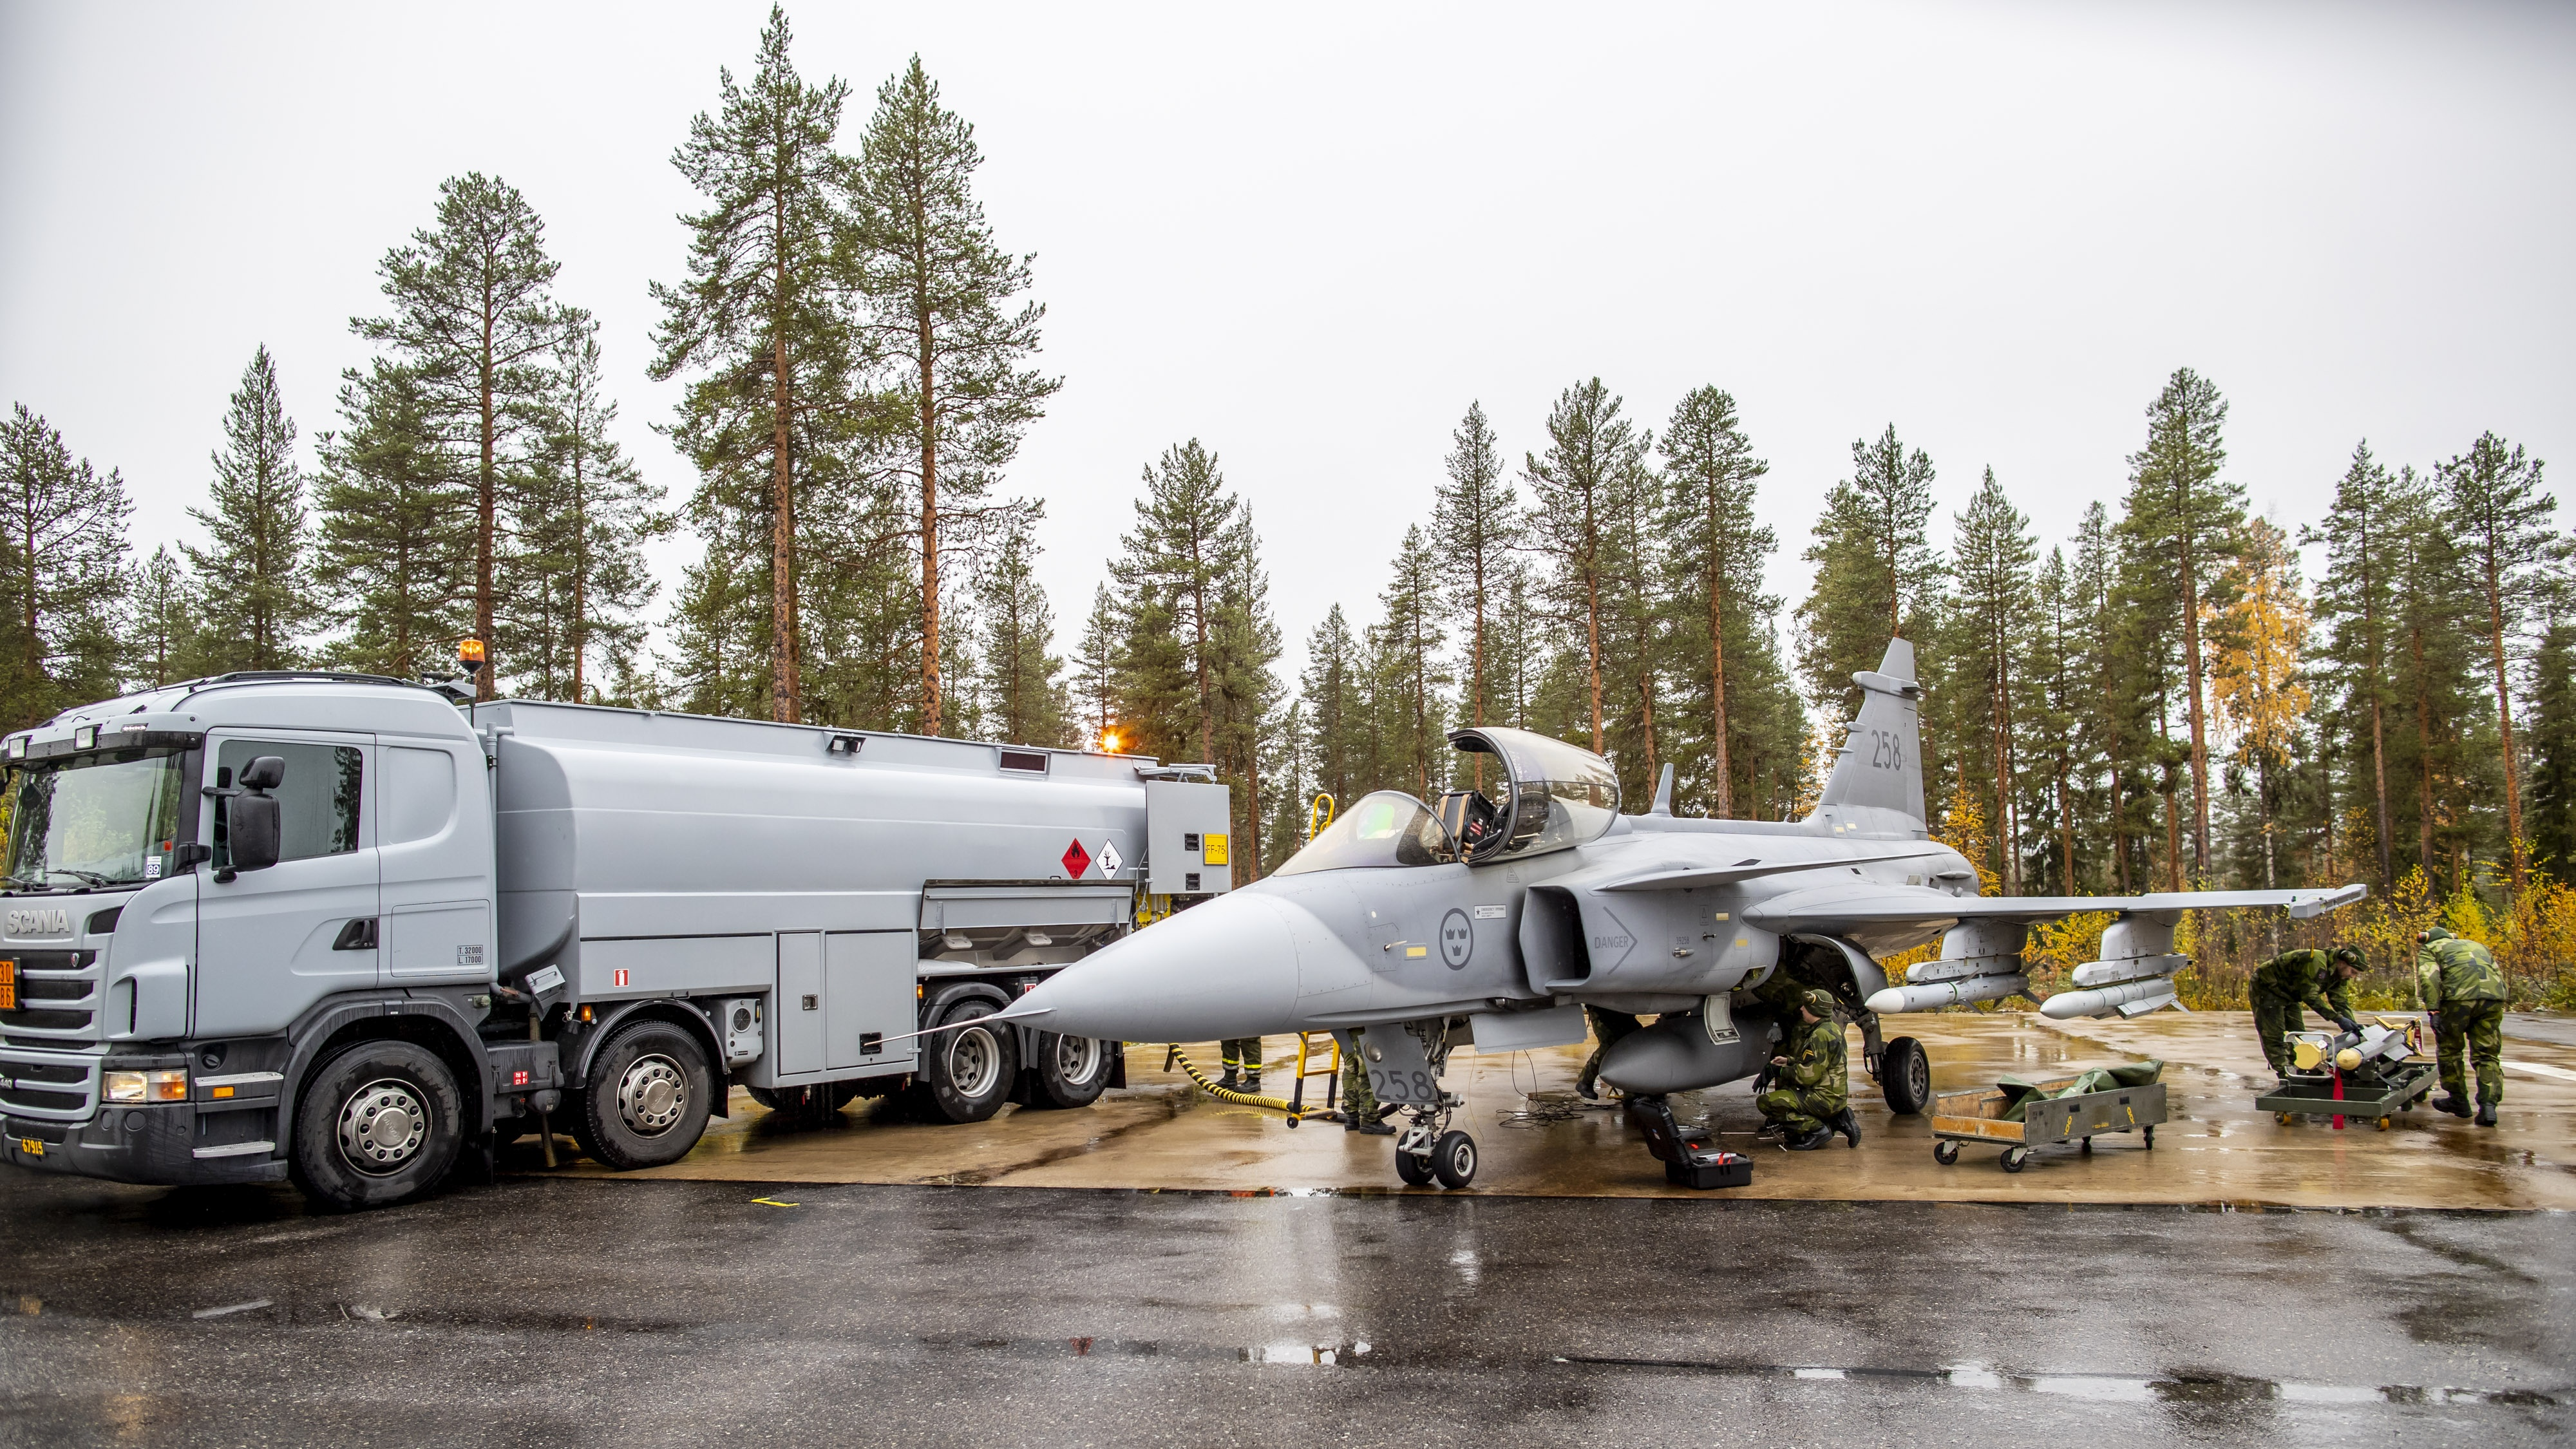JAS39: (865, 637, 2367, 1189)
